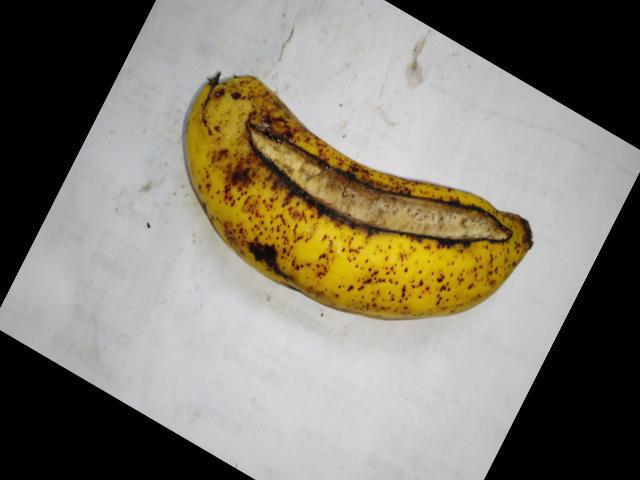rotten: (225, 111, 522, 259)
